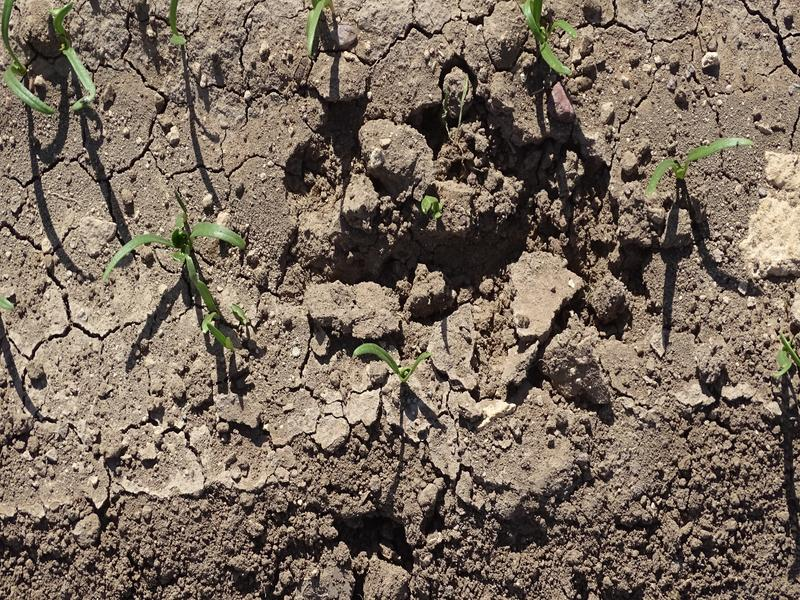Espinaca: (2, 1, 109, 114), (103, 215, 247, 273), (642, 132, 750, 194), (186, 280, 252, 353), (517, 5, 576, 76), (352, 338, 427, 382), (302, 1, 333, 53), (419, 190, 445, 221)
